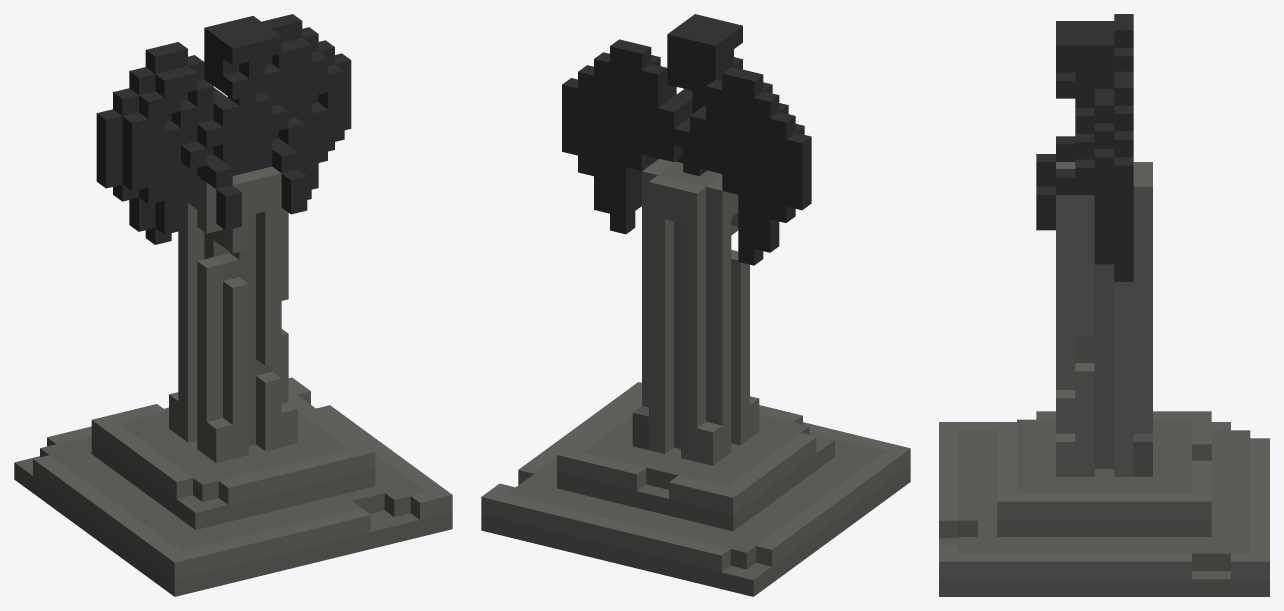
File: church-68-gy_monu1.obj
The picture shows the model from 3 angles, left to right: view 1: azimuth 30°, elevation 25°; view 2: azimuth 150°, elevation 25°; view 3: azimuth 270°, elevation 25°; orthographic projection. The views are drawn at different scales.
Parts seen in each view (by area): view 1: gy_monu1; view 2: gy_monu1; view 3: gy_monu1.
Boxes of the visible parts, bbox=[...] form: gy_monu1: bbox=[14, 14, 452, 596]; gy_monu1: bbox=[481, 14, 910, 596]; gy_monu1: bbox=[939, 14, 1269, 596].
Size of the model in its own units: 1.7 by 2.8 by 1.7.
Materials: 1 (1 with a texture image).
